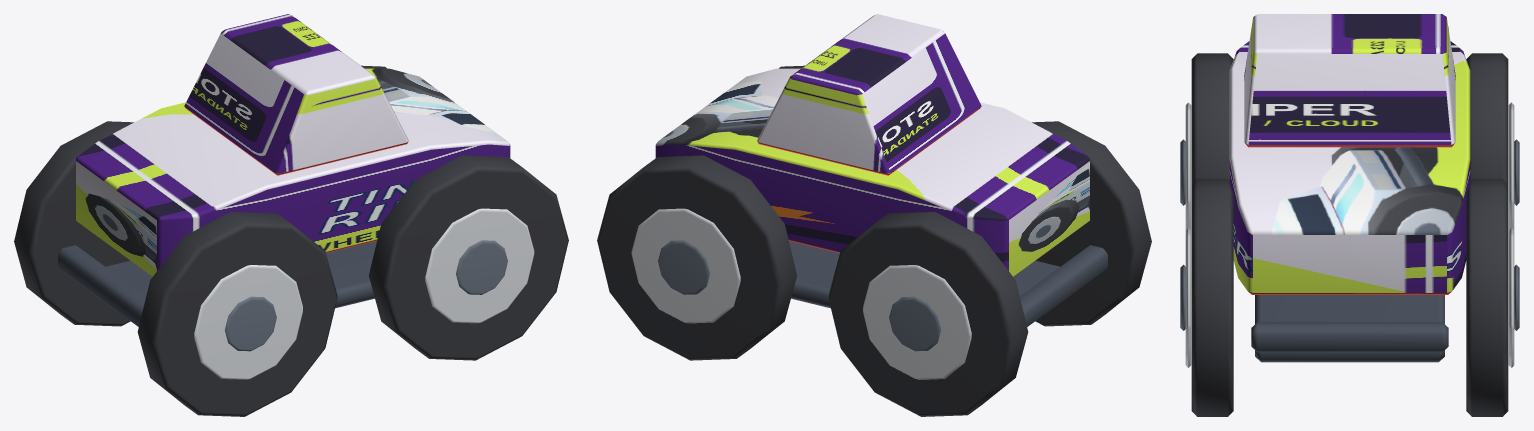
3 views of the same model, side by side, from view 1: azimuth 30°, elevation 25°; view 2: azimuth 150°, elevation 25°; view 3: azimuth 270°, elevation 25° (orthographic). The views are drawn at different scales.
Parts seen in each view (by area): view 1: BW-03_connected_shell, BW-03_cabin, Tire.002, Tire, Tire.001, Rim.002, Rim, underbody, front bumper, Hub.002, Hub; view 2: BW-03_connected_shell, BW-03_cabin, Tire.003, Tire.001, Tire, Rim.003, Rim.001, underbody, front bumper, Hub.003, Hub.001; view 3: BW-03_connected_shell, BW-03_cabin, Tire.002, Tire.003, underbody, rear bumper, Tire, Tire.001, Rim.002, Rim.003, Rim, Rim.001 (+4 smaller).
Boxes of the visible parts, box(x1,y1,x2,y2) form: BW-03_connected_shell: box(76, 68, 510, 276); BW-03_cabin: box(184, 14, 408, 175); Tire.002: box(368, 155, 568, 360); Tire: box(137, 211, 337, 416); Tire.001: box(14, 121, 133, 326); Rim.002: box(425, 208, 534, 323); Rim: box(194, 265, 302, 379); underbody: box(105, 241, 376, 308); front bumper: box(58, 245, 145, 326); Hub.002: box(456, 240, 507, 294); Hub: box(224, 296, 276, 351); BW-03_connected_shell: box(655, 68, 1089, 276); BW-03_cabin: box(757, 14, 981, 175); Tire.003: box(597, 155, 797, 360); Tire.001: box(828, 211, 1028, 416); Tire: box(1032, 121, 1151, 326); Rim.003: box(631, 208, 740, 323); Rim.001: box(863, 265, 971, 379); underbody: box(789, 241, 1060, 308); front bumper: box(1020, 245, 1107, 326); Hub.003: box(658, 240, 709, 294); Hub.001: box(889, 296, 941, 351); BW-03_connected_shell: box(1229, 41, 1470, 294); BW-03_cabin: box(1244, 14, 1455, 147); Tire.002: box(1191, 178, 1233, 416); Tire.003: box(1466, 178, 1508, 416); underbody: box(1255, 295, 1444, 362); rear bumper: box(1251, 322, 1448, 352); Tire: box(1191, 53, 1233, 183); Tire.001: box(1466, 53, 1508, 183); Rim.002: box(1185, 228, 1191, 367); Rim.003: box(1508, 228, 1514, 367); Rim: box(1185, 102, 1191, 229); Rim.001: box(1508, 102, 1514, 229).
Bounding box in the file's own units: 331 × 216 × 210.
